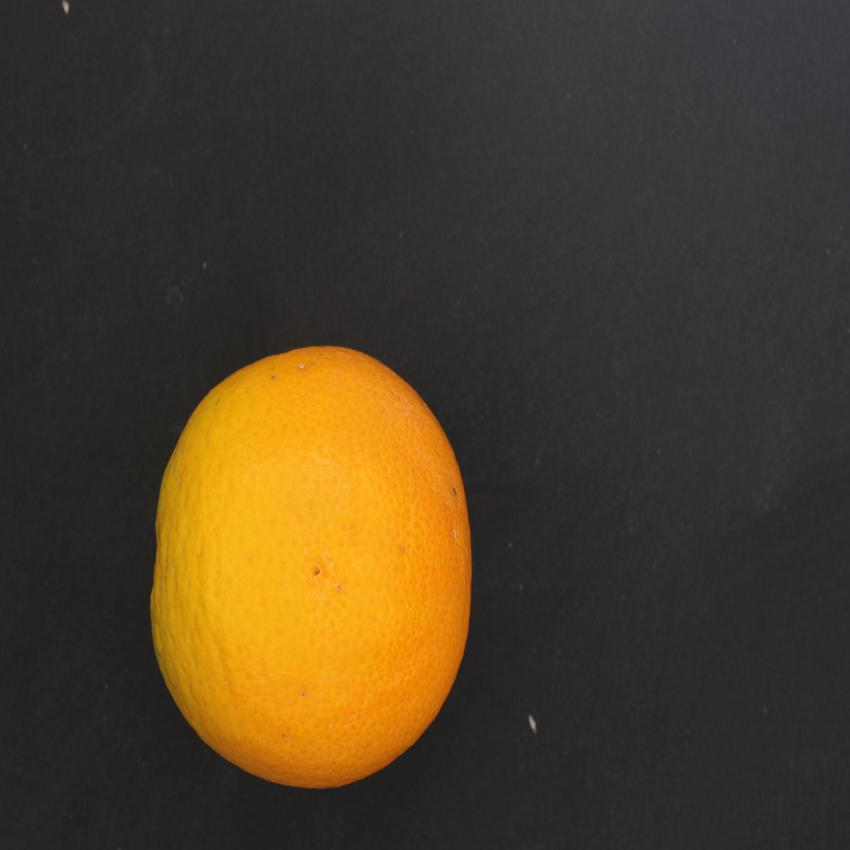Buen estado: (140, 333, 488, 801)
